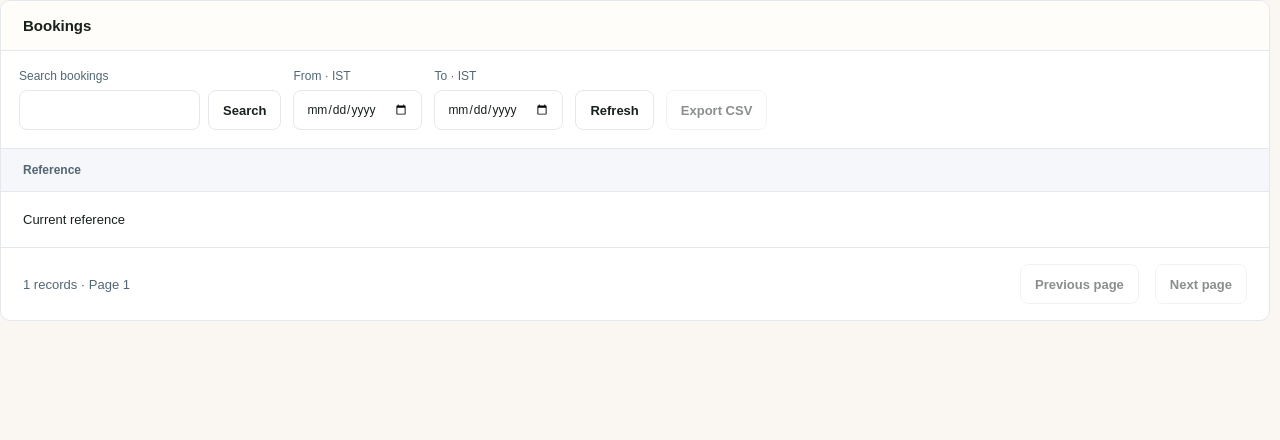
Test case: ignores stale search results after clearing a reference query and returns focus to search
The width and height of the screenshot is (1280, 440).
Type "PNR-A" into the field labelled "Search bookings". click: (110, 110)
box: x1=19 y1=90 x2=200 y2=130
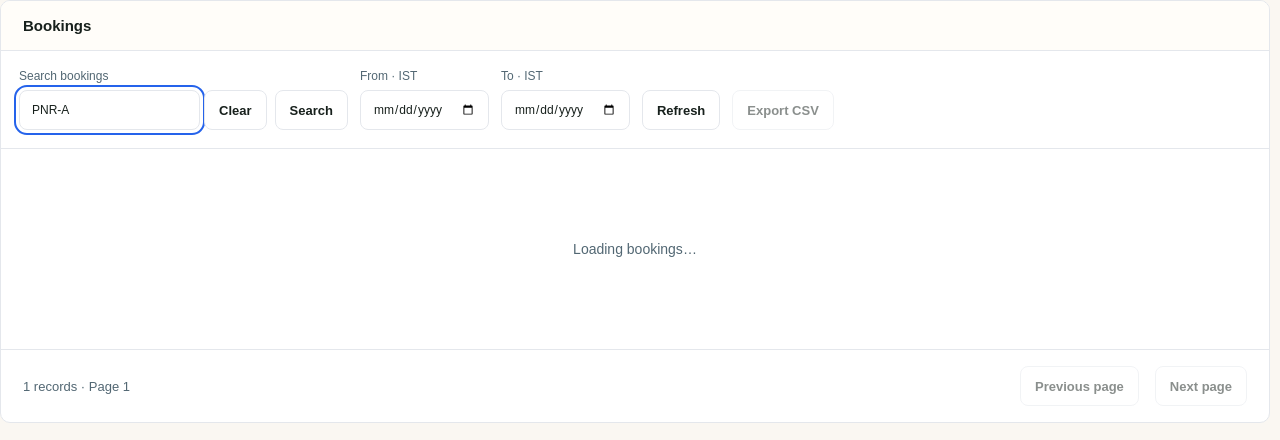
Click the button with aria-label "Clear bookings search". click: (235, 110)
box: x1=204 y1=90 x2=266 y2=130
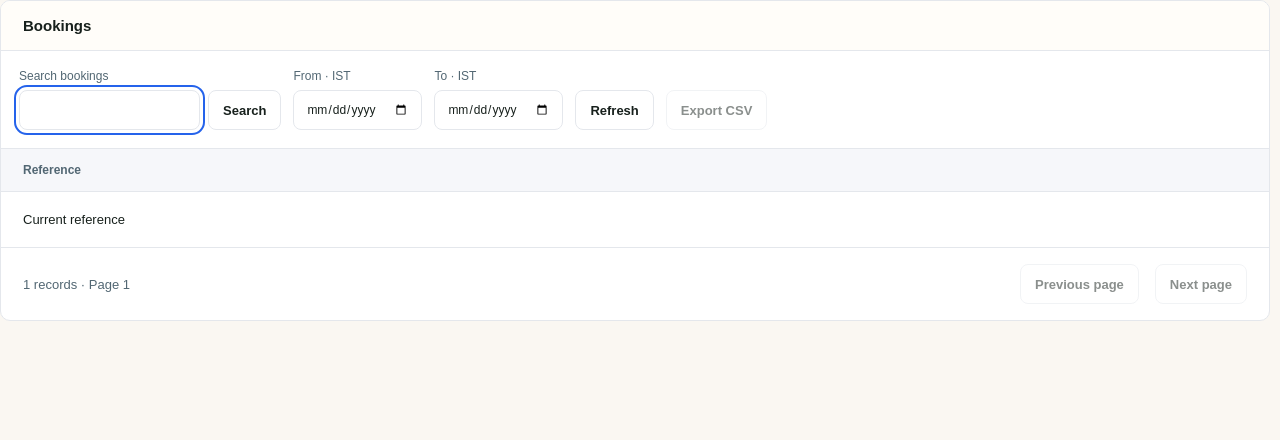
Expected: the text "Current reference" is shown, x1=1 y1=192 x2=1269 y2=247
